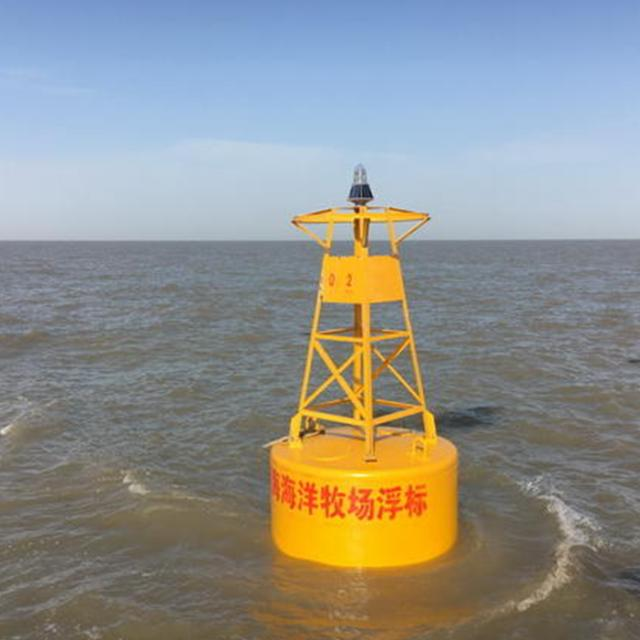buoy: (266, 156, 473, 562)
